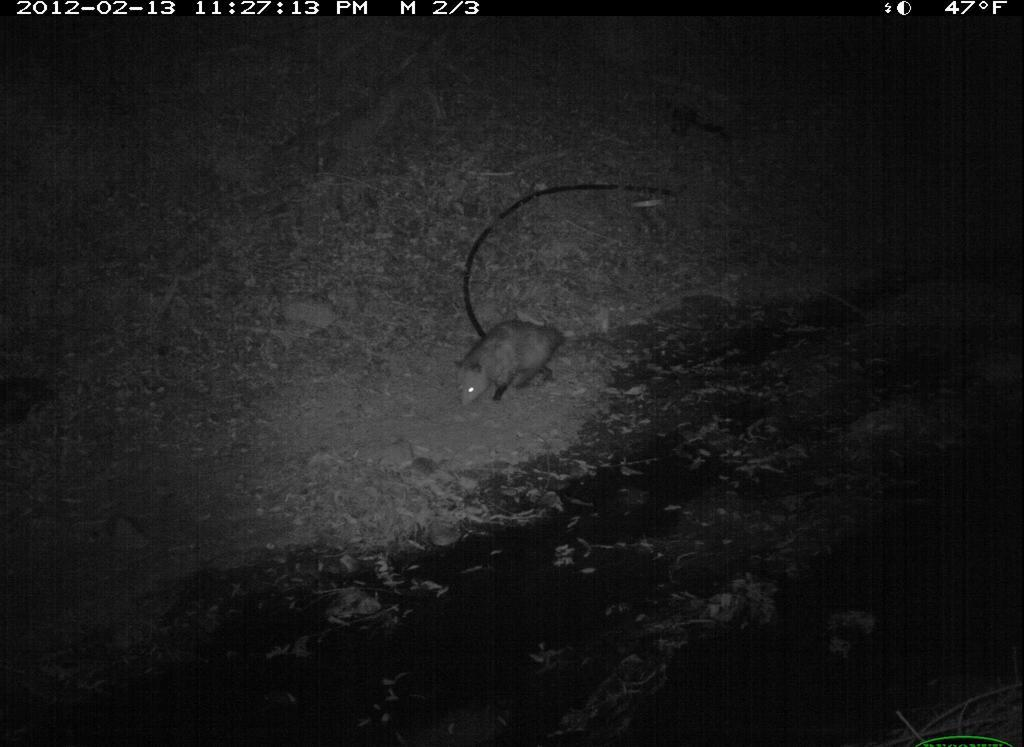opossum: (446, 313, 579, 424)
